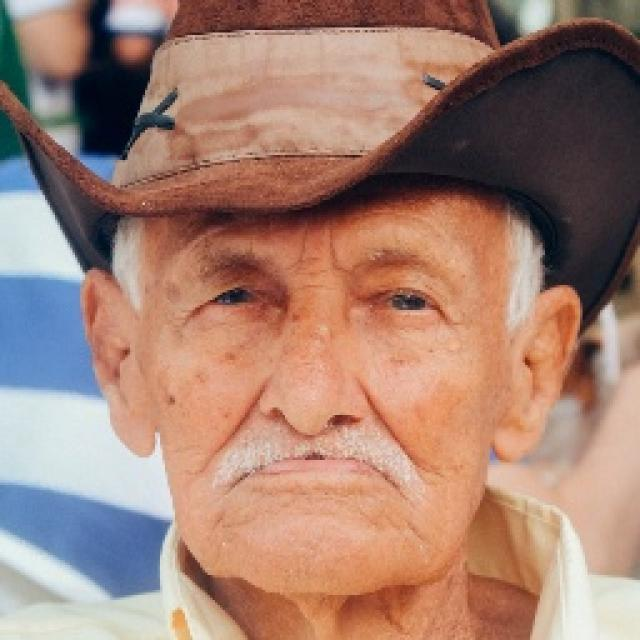earlobe: (109, 393, 157, 459), (490, 406, 537, 465)
eye: (370, 286, 441, 318), (194, 285, 268, 312)
nose: (254, 402, 375, 478)
wholeear: (491, 284, 582, 466), (79, 268, 157, 460)
